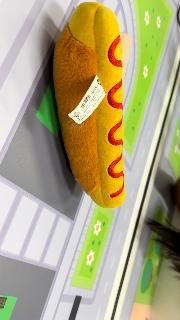hotdog: (52, 2, 126, 210)
